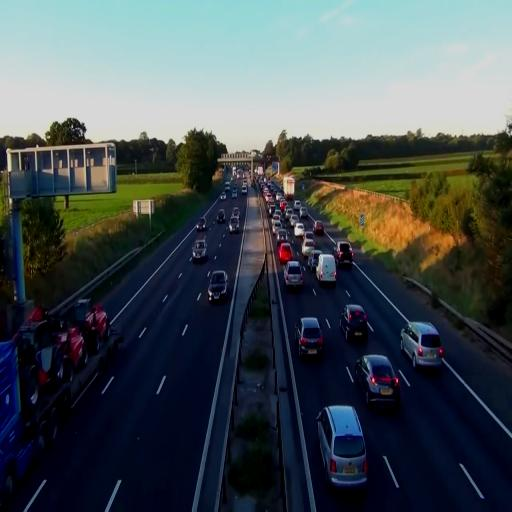vehicle: (0, 326, 72, 510), (316, 403, 368, 493), (355, 353, 400, 411), (400, 320, 443, 372), (298, 316, 324, 359), (340, 304, 369, 342), (206, 270, 228, 302), (316, 254, 337, 286), (284, 261, 304, 290), (336, 242, 354, 267), (278, 241, 292, 269), (191, 239, 208, 262), (229, 208, 240, 232)
